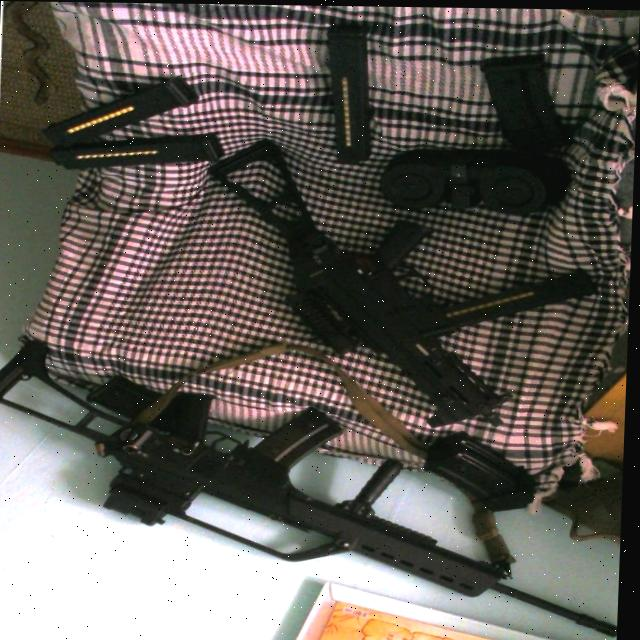firearm: (0, 339, 630, 636), (204, 138, 604, 430)
